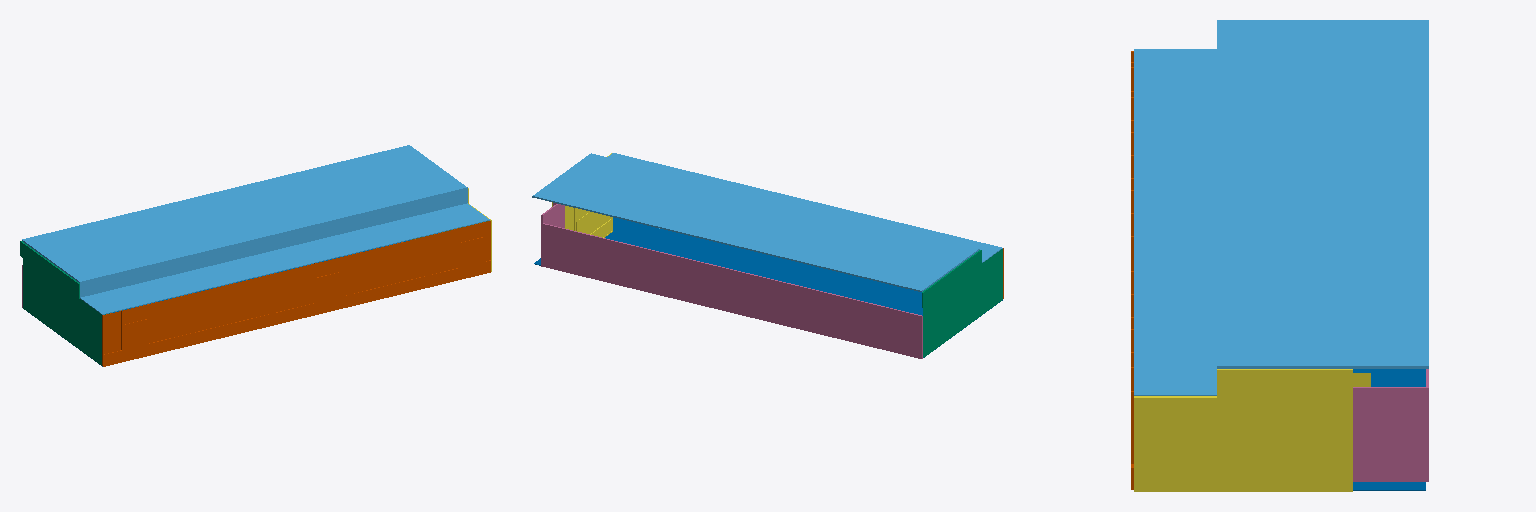
URDF robot description (room13bc):
<?xml version="1.0"?>
<!-- generated by ros2/make_package.py (room13bc) -->
<robot name="room13bc">
  <link name="world" />
  <joint name="world_to_room" type="fixed">
    <parent link="world" />
    <child link="room_floor" />
    <origin xyz="13.414500 4.781600 -0.010000" rpy="0.000000 0.000000 0.000000" />
  </joint>
  <link name="room_ceiling">
    <visual>
      <origin xyz="0 0 0" rpy="0 0 0" />
      <geometry>
        <mesh filename="package://room13bc_description/meshes/room_ceiling.obj" />
      </geometry>
    </visual>
    <collision>
      <origin xyz="0.00000 -3.27476 -0.71264" rpy="0 0 0" />
      <geometry>
        <box size="26.82900 2.70000 0.05000" />
      </geometry>
    </collision>
    <collision>
      <origin xyz="0.00000 -1.89976 -0.23764" rpy="0 0 0" />
      <geometry>
        <box size="26.82900 0.05000 1.00000" />
      </geometry>
    </collision>
    <collision>
      <origin xyz="0.00000 1.55524 0.31236" rpy="0 0 0" />
      <geometry>
        <box size="26.82900 6.96000 0.10000" />
      </geometry>
    </collision>
    <inertial>
      <origin xyz="0 0.6190326242 0.1240746725" rpy="0 0 0" />
      <mass value="100" />
      <inertia ixx="680.614" ixy="-9.9222e-14" ixz="1.68025e-15" iyy="6013.11" iyz="69.0204" izz="6664.09" />
    </inertial>
  </link>
  <link name="room_end_wall_0">
    <visual>
      <origin xyz="0 0 0" rpy="0 0 0" />
      <geometry>
        <mesh filename="package://room13bc_description/meshes/room_end_wall_0.obj" />
      </geometry>
    </visual>
    <collision>
      <origin xyz="0.22244 -3.36629 -0.38699" rpy="0 0 0" />
      <geometry>
        <box size="0.60000 2.76000 3.40000" />
      </geometry>
    </collision>
    <collision>
      <origin xyz="-0.08256 0.21371 -0.38699" rpy="0 0 0" />
      <geometry>
        <box size="0.01000 4.40000 3.40000" />
      </geometry>
    </collision>
    <collision>
      <origin xyz="-0.08256 3.61371 -0.38699" rpy="0 0 0" />
      <geometry>
        <box size="0.01000 2.40000 3.40000" />
      </geometry>
    </collision>
    <collision>
      <origin xyz="-0.12756 1.43371 1.81301" rpy="0 0 0" />
      <geometry>
        <box size="0.10000 6.96000 1.00000" />
      </geometry>
    </collision>
    <inertial>
      <origin xyz="0.1745356618 -2.688308295 -0.1534907763" rpy="0 0 0" />
      <mass value="100" />
      <inertia ixx="522.975" ixy="-19.7234" ixz="-7.05401" iyy="136.895" iyz="96.2491" izz="394.047" />
    </inertial>
  </link>
  <link name="room_end_wall_l">
    <visual>
      <origin xyz="0 0 0" rpy="0 0 0" />
      <geometry>
        <mesh filename="package://room13bc_description/meshes/room_end_wall_l.obj" />
      </geometry>
    </visual>
    <collision>
      <origin xyz="0.80808 -3.18233 -0.19860" rpy="0 0 0" />
      <geometry>
        <box size="0.10000 2.70000 3.40000" />
      </geometry>
    </collision>
    <collision>
      <origin xyz="0.80808 0.39767 -0.19860" rpy="0 0 0" />
      <geometry>
        <box size="0.10000 4.46000 3.40000" />
      </geometry>
    </collision>
    <collision>
      <origin xyz="0.80808 0.39767 2.00140" rpy="0 0 0" />
      <geometry>
        <box size="0.10000 4.46000 1.00000" />
      </geometry>
    </collision>
    <collision>
      <origin xyz="-1.06692 -1.22733 -0.19860" rpy="0 0 0" />
      <geometry>
        <box size="0.05000 0.05000 3.40000" />
      </geometry>
    </collision>
    <collision>
      <origin xyz="-1.06692 3.22267 -0.19860" rpy="0 0 0" />
      <geometry>
        <box size="0.05000 0.05000 3.40000" />
      </geometry>
    </collision>
    <collision>
      <origin xyz="-1.06692 0.99767 1.47640" rpy="0 0 0" />
      <geometry>
        <box size="0.05000 4.40000 0.05000" />
      </geometry>
    </collision>
    <collision>
      <origin xyz="-1.06692 0.99767 -1.86860" rpy="0 0 0" />
      <geometry>
        <box size="0.05000 4.40000 0.06000" />
      </geometry>
    </collision>
    <collision>
      <origin xyz="-1.06692 0.99767 -0.19360" rpy="0 0 0" />
      <geometry>
        <box size="0.01000 4.40000 3.29000" />
      </geometry>
    </collision>
    <collision>
      <origin xyz="-1.10442 0.97267 0.51140" rpy="0 0 0" />
      <geometry>
        <box size="0.02500 4.21000 0.02000" />
      </geometry>
    </collision>
    <collision>
      <origin xyz="-1.10442 0.97267 -0.93860" rpy="0 0 0" />
      <geometry>
        <box size="0.02500 4.21000 0.02000" />
      </geometry>
    </collision>
    <collision>
      <origin xyz="-1.10442 -1.12233 -0.21360" rpy="0 0 0" />
      <geometry>
        <box size="0.02500 0.02000 1.43000" />
      </geometry>
    </collision>
    <collision>
      <origin xyz="-1.10442 3.06767 -0.21360" rpy="0 0 0" />
      <geometry>
        <box size="0.02500 0.02000 1.43000" />
      </geometry>
    </collision>
    <collision>
      <origin xyz="-1.10192 0.97267 -0.21360" rpy="0 0 0" />
      <geometry>
        <box size="0.02000 4.17000 1.43000" />
      </geometry>
    </collision>
    <collision>
      <origin xyz="-1.14442 0.97267 -0.96110" rpy="0 0 0" />
      <geometry>
        <box size="0.05500 3.81000 0.02500" />
      </geometry>
    </collision>
    <inertial>
      <origin xyz="0.6211599089 -0.5721483346 0.1056203775" rpy="0 0 0" />
      <mass value="100" />
      <inertia ixx="554.155" ixy="-29.148" ixz="6.21215" iyy="172.244" iyz="29.3439" izz="445.743" />
    </inertial>
  </link>
  <link name="room_floor">
    <visual>
      <origin xyz="0 0 0" rpy="0 0 0" />
      <geometry>
        <mesh filename="package://room13bc_description/meshes/room_floor.obj" />
      </geometry>
    </visual>
    <collision>
      <origin xyz="0.00000 -3.43160 0.00000" rpy="0 0 0" />
      <geometry>
        <box size="26.82900 2.70000 0.02000" />
      </geometry>
    </collision>
    <collision>
      <origin xyz="0.00000 0.38340 0.00000" rpy="0 0 0" />
      <geometry>
        <box size="26.82900 4.93000 0.02000" />
      </geometry>
    </collision>
    <collision>
      <origin xyz="0.00000 3.81340 0.00000" rpy="0 0 0" />
      <geometry>
        <box size="26.82900 1.93000 0.02000" />
      </geometry>
    </collision>
    <inertial>
      <origin xyz="0 -0.001599646563 0" rpy="0 0 0" />
      <mass value="100" />
      <inertia ixx="761.617" ixy="1.01065e-14" ixz="4.83884e-16" iyy="5998.3" iyz="-1.39853e-16" izz="6759.91" />
    </inertial>
  </link>
  <link name="room_partition">
    <visual>
      <origin xyz="0 0 0" rpy="0 0 0" />
      <geometry>
        <mesh filename="package://room13bc_description/meshes/room_partition.obj" />
      </geometry>
    </visual>
    <collision>
      <origin xyz="-12.83593 -0.00012 -1.30739" rpy="0 0 0" />
      <geometry>
        <box size="1.27000 0.10000 0.80000" />
      </geometry>
    </collision>
    <collision>
      <origin xyz="-4.55093 -0.00012 -1.30739" rpy="0 0 0" />
      <geometry>
        <box size="11.50000 0.10000 0.80000" />
      </geometry>
    </collision>
    <collision>
      <origin xyz="7.09907 -0.00012 -1.30739" rpy="0 0 0" />
      <geometry>
        <box size="8.00000 0.10000 0.80000" />
      </geometry>
    </collision>
    <collision>
      <origin xyz="13.17857 -0.00012 -1.30739" rpy="0 0 0" />
      <geometry>
        <box size="0.35900 0.10000 0.80000" />
      </geometry>
    </collision>
    <collision>
      <origin xyz="-11.25093 -0.00012 0.71761" rpy="0 0 0" />
      <geometry>
        <box size="1.80000 0.10000 0.05000" />
      </geometry>
    </collision>
    <collision>
      <origin xyz="2.14907 -0.00012 0.71761" rpy="0 0 0" />
      <geometry>
        <box size="1.80000 0.10000 0.05000" />
      </geometry>
    </collision>
    <collision>
      <origin xyz="12.04907 -0.00012 0.71761" rpy="0 0 0" />
      <geometry>
        <box size="1.80000 0.10000 0.05000" />
      </geometry>
    </collision>
    <collision>
      <origin xyz="-13.44593 -0.00012 -0.00739" rpy="0 0 0" />
      <geometry>
        <box size="0.05000 0.10000 3.40000" />
      </geometry>
    </collision>
    <collision>
      <origin xyz="-12.54593 -0.00012 -0.00739" rpy="0 0 0" />
      <geometry>
        <box size="0.05000 0.10000 3.40000" />
      </geometry>
    </collision>
    <collision>
      <origin xyz="-12.17593 -0.00012 -0.00739" rpy="0 0 0" />
      <geometry>
        <box size="0.05000 0.10000 3.40000" />
      </geometry>
    </collision>
    <collision>
      <origin xyz="-10.32593 -0.00012 -0.00739" rpy="0 0 0" />
      <geometry>
        <box size="0.05000 0.10000 3.40000" />
      </geometry>
    </collision>
    <collision>
      <origin xyz="-9.84593 -0.00012 -0.00739" rpy="0 0 0" />
      <geometry>
        <box size="0.05000 0.10000 3.40000" />
      </geometry>
    </collision>
    <collision>
      <origin xyz="-8.94593 -0.00012 -0.00739" rpy="0 0 0" />
      <geometry>
        <box size="0.05000 0.10000 3.40000" />
      </geometry>
    </collision>
    <collision>
      <origin xyz="-8.04593 -0.00012 -0.00739" rpy="0 0 0" />
      <geometry>
        <box size="0.05000 0.10000 3.40000" />
      </geometry>
    </collision>
    <collision>
      <origin xyz="-7.14593 -0.00012 -0.00739" rpy="0 0 0" />
      <geometry>
        <box size="0.05000 0.10000 3.40000" />
      </geometry>
    </collision>
    <collision>
      <origin xyz="-6.24593 -0.00012 -0.00739" rpy="0 0 0" />
      <geometry>
        <box size="0.05000 0.10000 3.40000" />
      </geometry>
    </collision>
    <collision>
      <origin xyz="-5.34593 -0.00012 -0.00739" rpy="0 0 0" />
      <geometry>
        <box size="0.05000 0.10000 3.40000" />
      </geometry>
    </collision>
    <collision>
      <origin xyz="-4.44593 -0.00012 -0.00739" rpy="0 0 0" />
      <geometry>
        <box size="0.05000 0.10000 3.40000" />
      </geometry>
    </collision>
    <collision>
      <origin xyz="-3.54593 -0.00012 -0.00739" rpy="0 0 0" />
      <geometry>
        <box size="0.05000 0.10000 3.40000" />
      </geometry>
    </collision>
    <collision>
      <origin xyz="-2.64593 -0.00012 -0.00739" rpy="0 0 0" />
      <geometry>
        <box size="0.05000 0.10000 3.40000" />
      </geometry>
    </collision>
    <collision>
      <origin xyz="-1.74593 -0.00012 -0.00739" rpy="0 0 0" />
      <geometry>
        <box size="0.05000 0.10000 3.40000" />
      </geometry>
    </collision>
    <collision>
      <origin xyz="-0.84593 -0.00012 -0.00739" rpy="0 0 0" />
      <geometry>
        <box size="0.05000 0.10000 3.40000" />
      </geometry>
    </collision>
    <collision>
      <origin xyz="0.05407 -0.00012 -0.00739" rpy="0 0 0" />
      <geometry>
        <box size="0.05000 0.10000 3.40000" />
      </geometry>
    </collision>
    <collision>
      <origin xyz="0.95407 -0.00012 -0.00739" rpy="0 0 0" />
      <geometry>
        <box size="0.05000 0.10000 3.40000" />
      </geometry>
    </collision>
    <collision>
      <origin xyz="1.22407 -0.00012 -0.00739" rpy="0 0 0" />
      <geometry>
        <box size="0.05000 0.10000 3.40000" />
      </geometry>
    </collision>
    <collision>
      <origin xyz="3.07407 -0.00012 -0.00739" rpy="0 0 0" />
      <geometry>
        <box size="0.05000 0.10000 3.40000" />
      </geometry>
    </collision>
    <collision>
      <origin xyz="3.65407 -0.00012 -0.00739" rpy="0 0 0" />
      <geometry>
        <box size="0.05000 0.10000 3.40000" />
      </geometry>
    </collision>
    <collision>
      <origin xyz="4.55407 -0.00012 -0.00739" rpy="0 0 0" />
      <geometry>
        <box size="0.05000 0.10000 3.40000" />
      </geometry>
    </collision>
    <collision>
      <origin xyz="5.45407 -0.00012 -0.00739" rpy="0 0 0" />
      <geometry>
        <box size="0.05000 0.10000 3.40000" />
      </geometry>
    </collision>
    <collision>
      <origin xyz="6.35407 -0.00012 -0.00739" rpy="0 0 0" />
      <geometry>
        <box size="0.05000 0.10000 3.40000" />
      </geometry>
    </collision>
    <collision>
      <origin xyz="7.25407 -0.00012 -0.00739" rpy="0 0 0" />
      <geometry>
        <box size="0.05000 0.10000 3.40000" />
      </geometry>
    </collision>
    <collision>
      <origin xyz="8.15407 -0.00012 -0.00739" rpy="0 0 0" />
      <geometry>
        <box size="0.05000 0.10000 3.40000" />
      </geometry>
    </collision>
    <collision>
      <origin xyz="9.05407 -0.00012 -0.00739" rpy="0 0 0" />
      <geometry>
        <box size="0.05000 0.10000 3.40000" />
      </geometry>
    </collision>
    <collision>
      <origin xyz="9.95407 -0.00012 -0.00739" rpy="0 0 0" />
      <geometry>
        <box size="0.05000 0.10000 3.40000" />
      </geometry>
    </collision>
    <collision>
      <origin xyz="10.85407 -0.00012 -0.00739" rpy="0 0 0" />
      <geometry>
        <box size="0.05000 0.10000 3.40000" />
      </geometry>
    </collision>
    <collision>
      <origin xyz="11.12407 -0.00012 -0.00739" rpy="0 0 0" />
      <geometry>
        <box size="0.05000 0.10000 3.40000" />
      </geometry>
    </collision>
    <collision>
      <origin xyz="12.97407 -0.00012 -0.00739" rpy="0 0 0" />
      <geometry>
        <box size="0.05000 0.10000 3.40000" />
      </geometry>
    </collision>
    <collision>
      <origin xyz="-11.25093 0.00088 -0.50739" rpy="0 0 0" />
      <geometry>
        <box size="1.80000 0.10200 2.40000" />
      </geometry>
    </collision>
    <collision>
      <origin xyz="2.14907 0.00088 -0.50739" rpy="0 0 0" />
      <geometry>
        <box size="1.80000 0.10200 2.40000" />
      </geometry>
    </collision>
    <collision>
      <origin xyz="12.04907 0.00088 -0.50739" rpy="0 0 0" />
      <geometry>
        <box size="1.80000 0.10200 2.40000" />
      </geometry>
    </collision>
    <collision>
      <origin xyz="-0.05643 -0.00012 0.39261" rpy="0 0 0" />
      <geometry>
        <box size="26.82900 0.01000 2.60000" />
      </geometry>
    </collision>
    <inertial>
      <origin xyz="0.1388675898 0.0001960883505 -0.5940245521" rpy="0 0 0" />
      <mass value="100" />
      <inertia ixx="80.2013" ixy="0.0268645" ixz="8.09242" iyy="6800.02" iyz="0.00275893" izz="6719.96" />
    </inertial>
  </link>
  <link name="room_storage_wall">
    <visual>
      <origin xyz="0 0 0" rpy="0 0 0" />
      <geometry>
        <mesh filename="package://room13bc_description/meshes/room_storage_wall.obj" />
      </geometry>
    </visual>
    <collision>
      <origin xyz="-11.34463 0.19984 -0.03773" rpy="0 0 0" />
      <geometry>
        <box size="5.76400 0.10000 2.83000" />
      </geometry>
    </collision>
    <collision>
      <origin xyz="-5.76263 0.19984 -0.03773" rpy="0 0 0" />
      <geometry>
        <box size="5.40000 0.10000 2.83000" />
      </geometry>
    </collision>
    <collision>
      <origin xyz="-0.36263 0.19984 -0.03773" rpy="0 0 0" />
      <geometry>
        <box size="5.40000 0.10000 2.83000" />
      </geometry>
    </collision>
    <collision>
      <origin xyz="4.58737 0.19984 -0.03773" rpy="0 0 0" />
      <geometry>
        <box size="4.50000 0.10000 2.83000" />
      </geometry>
    </collision>
    <collision>
      <origin xyz="9.08737 0.19984 -0.03773" rpy="0 0 0" />
      <geometry>
        <box size="4.50000 0.10000 2.83000" />
      </geometry>
    </collision>
    <collision>
      <origin xyz="-14.50163 0.19984 -0.03773" rpy="0 0 0" />
      <geometry>
        <box size="0.55000 0.10000 2.83000" />
      </geometry>
    </collision>
    <collision>
      <origin xyz="11.38737 -1.00016 0.24727" rpy="0 0 0" />
      <geometry>
        <box size="0.10000 2.50000 3.40000" />
      </geometry>
    </collision>
    <collision>
      <origin xyz="11.69487 -2.30016 0.24727" rpy="0 0 0" />
      <geometry>
        <box size="0.71500 0.10000 3.40000" />
      </geometry>
    </collision>
    <inertial>
      <origin xyz="-0.02195300792 0.007961858815 -0.001002788956" rpy="0 0 0" />
      <mass value="100" />
      <inertia ixx="105.416" ixy="-221.12" ixz="42.1495" iyy="6970.95" iyz="-4.76383" izz="6933.43" />
    </inertial>
  </link>
  <joint name="room_floor_to_room_storage_wall" type="fixed">
    <parent link="room_floor" />
    <child link="room_storage_wall" />
    <origin xyz="1.362131 4.628563 1.462726" rpy="0.000000 0.000000 0.000000" />
  </joint>
  <joint name="room_floor_to_room_partition" type="fixed">
    <parent link="room_floor" />
    <child link="room_partition" />
    <origin xyz="0.056428 -4.831477 1.717395" rpy="0.000000 0.000000 0.000000" />
  </joint>
  <joint name="room_floor_to_room_end_wall_0" type="fixed">
    <parent link="room_floor" />
    <child link="room_end_wall_0" />
    <origin xyz="-13.336937 -0.035309 2.096991" rpy="0.000000 0.000000 0.000000" />
  </joint>
  <joint name="room_floor_to_room_end_wall_l" type="fixed">
    <parent link="room_floor" />
    <child link="room_end_wall_l" />
    <origin xyz="12.656423 -0.249272 1.908599" rpy="0.000000 0.000000 0.000000" />
  </joint>
  <joint name="room_floor_to_room_ceiling" type="fixed">
    <parent link="room_floor" />
    <child link="room_ceiling" />
    <origin xyz="0.000000 -0.156841 4.147645" rpy="0.000000 0.000000 0.000000" />
  </joint>
</robot>

--- Render facts (derived) ---
3 views of the same robot in one strip: view 1: azimuth 30°, elevation 25°; view 2: azimuth 150°, elevation 25°; view 3: azimuth 270°, elevation 25° (orthographic).
Model room13bc with 7 links and 6 joints (6 fixed), rooted at world, posed every joint at zero.
Links seen in each view (by area): view 1: room_ceiling, room_partition, room_end_wall_0; view 2: room_ceiling, room_storage_wall, room_floor, room_end_wall_0, room_end_wall_l; view 3: room_ceiling, room_end_wall_l, room_storage_wall, room_floor, room_partition.
Boxes of the visible links, x1,y1,x2,y2 form: room_ceiling: [22, 145, 489, 314]; room_partition: [102, 221, 490, 366]; room_end_wall_0: [20, 241, 109, 365]; room_ceiling: [532, 153, 1002, 291]; room_storage_wall: [541, 203, 922, 358]; room_floor: [534, 217, 1002, 357]; room_end_wall_0: [922, 249, 1002, 357]; room_end_wall_l: [552, 153, 612, 237]; room_ceiling: [1134, 20, 1428, 395]; room_end_wall_l: [1134, 369, 1370, 491]; room_storage_wall: [1353, 369, 1428, 481]; room_floor: [1353, 369, 1425, 490]; room_partition: [1131, 51, 1133, 489].
Size in the robot's own frame: 27.03 by 9.76 by 4.52 metres.
Meshes: 6 distinct files referenced, 6 mesh visuals loaded (6 OBJ).
